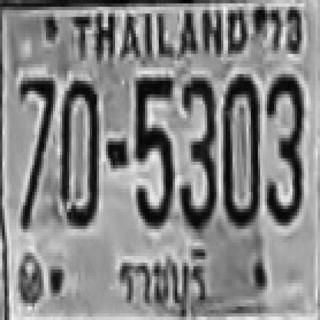N00: (57, 79, 97, 224), (221, 72, 258, 224)
N03: (177, 74, 214, 226), (265, 71, 302, 222)
N05: (133, 74, 173, 226)
N07: (18, 74, 53, 226)
P52: (113, 246, 212, 317)
